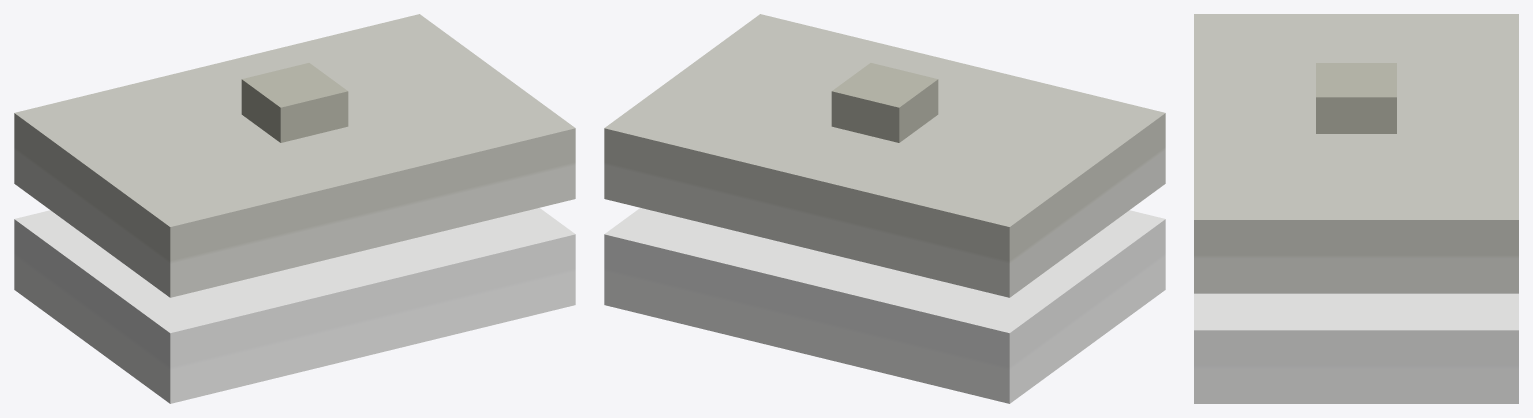
The model's file is Chest072.fbx.
The picture shows the model from 3 angles, left to right: view 1: azimuth 30°, elevation 25°; view 2: azimuth 150°, elevation 25°; view 3: azimuth 270°, elevation 25°; orthographic projection. The views are drawn at different scales.
Parts seen in each view (by area): view 1: Chest072; view 2: Chest072; view 3: Chest072.
Part boxes in pixels (x1=…): Chest072: x1=14, y1=14, x2=575, y2=403; Chest072: x1=604, y1=14, x2=1165, y2=403; Chest072: x1=1194, y1=14, x2=1518, y2=403.
Size of the model in its own units: 12 by 6 by 8.
